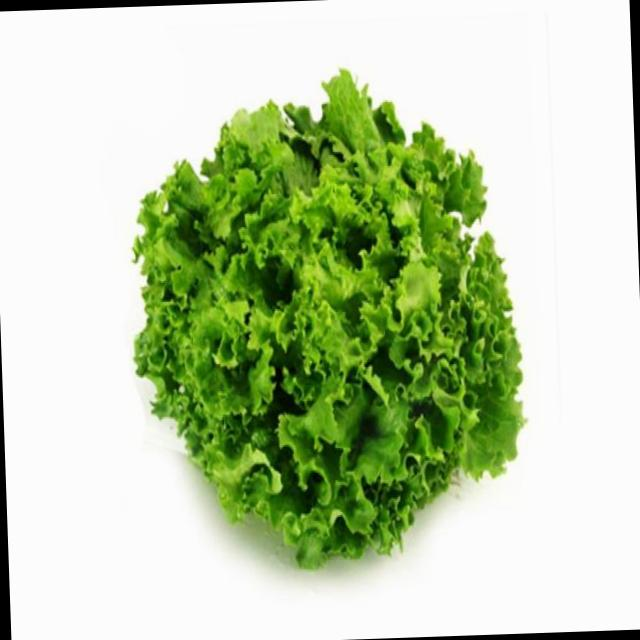Lettuce-Ready-to-Harvest: (122, 64, 538, 572)
